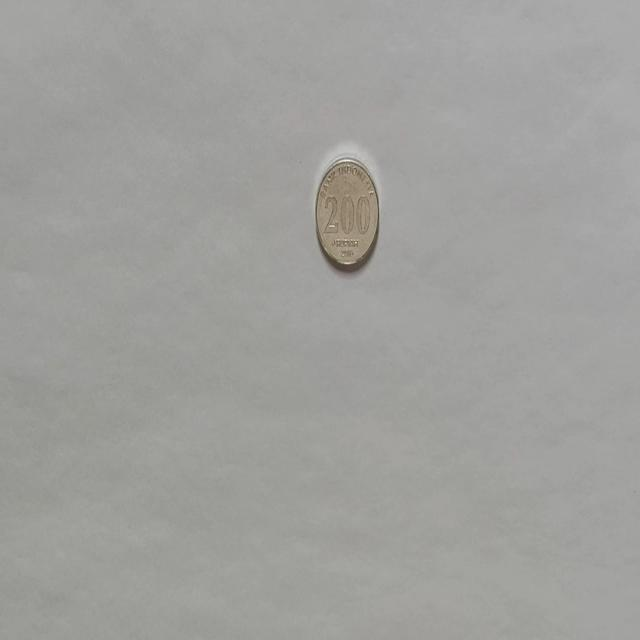dua ratus rupiah: (314, 154, 379, 272)
